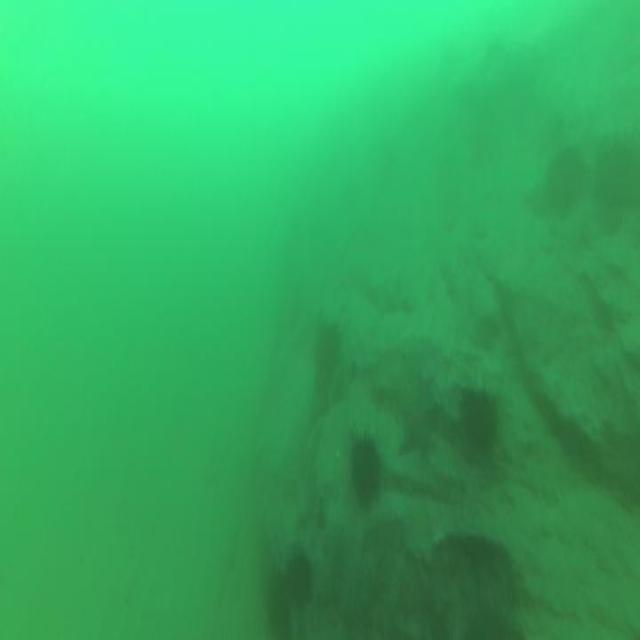echinus: (456, 376, 503, 468), (343, 422, 389, 514), (277, 537, 319, 612), (314, 316, 344, 394)
